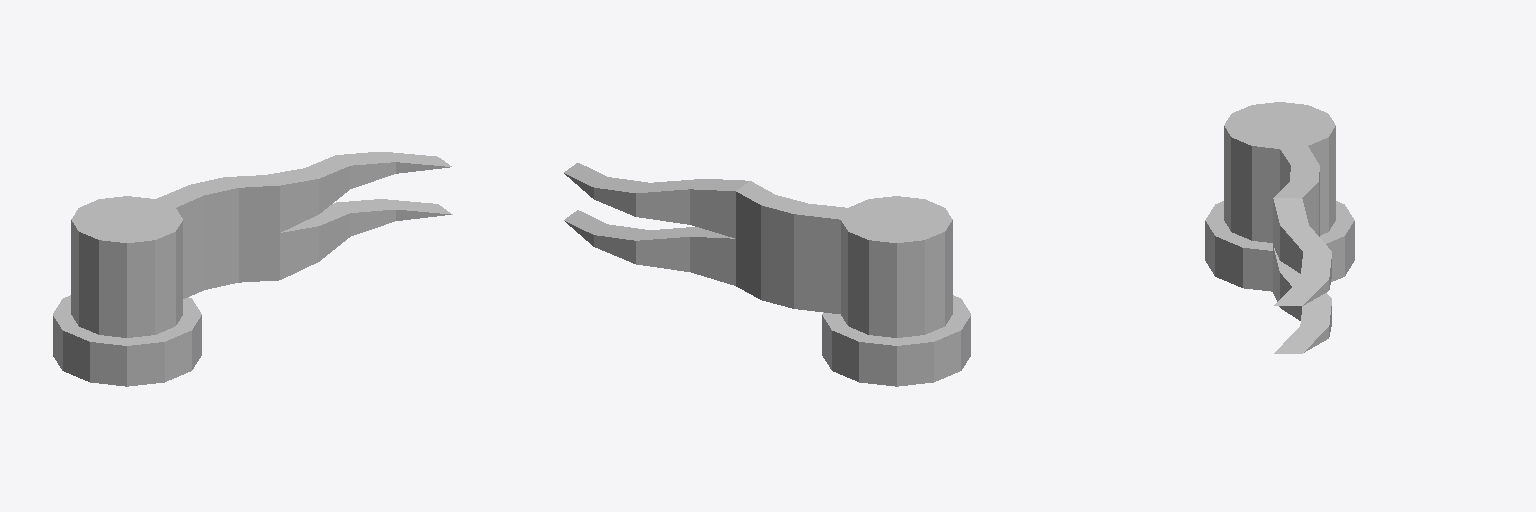
The model's file is flag.obj.
The picture shows the model from 3 angles: view 1: azimuth 30°, elevation 25°; view 2: azimuth 150°, elevation 25°; view 3: azimuth 270°, elevation 25°; orthographic projection.
Parts seen in each view (by area): view 1: Cylinder_Cylinder.002; view 2: Cylinder_Cylinder.002; view 3: Cylinder_Cylinder.002.
Boxes of the visible parts, x1,y1,x2,y2 form: Cylinder_Cylinder.002: [53, 152, 452, 386]; Cylinder_Cylinder.002: [564, 163, 970, 386]; Cylinder_Cylinder.002: [1205, 102, 1354, 353].
Bounding box in the file's own units: 2.99 × 1 × 1.